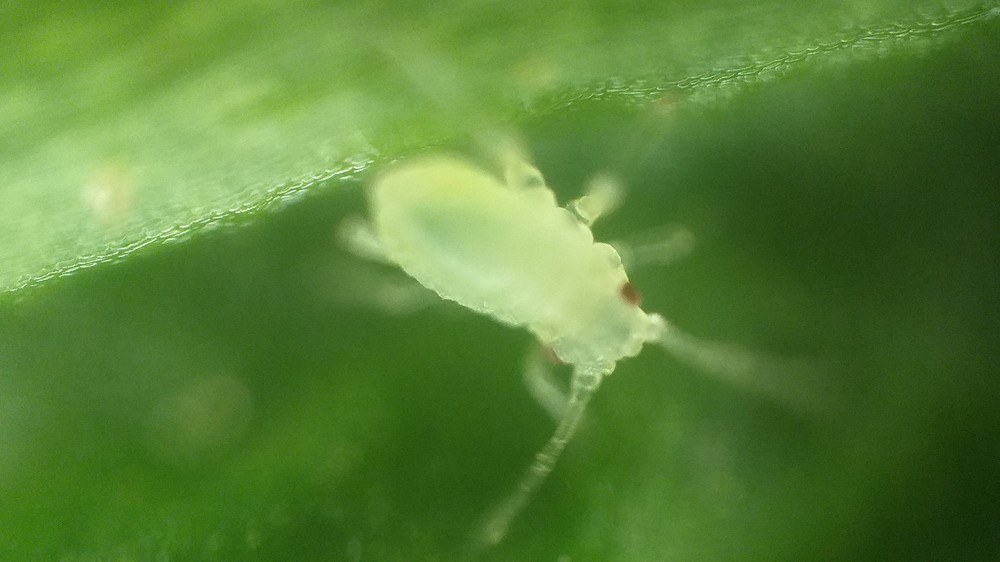Pulgon: (283, 72, 874, 527)
